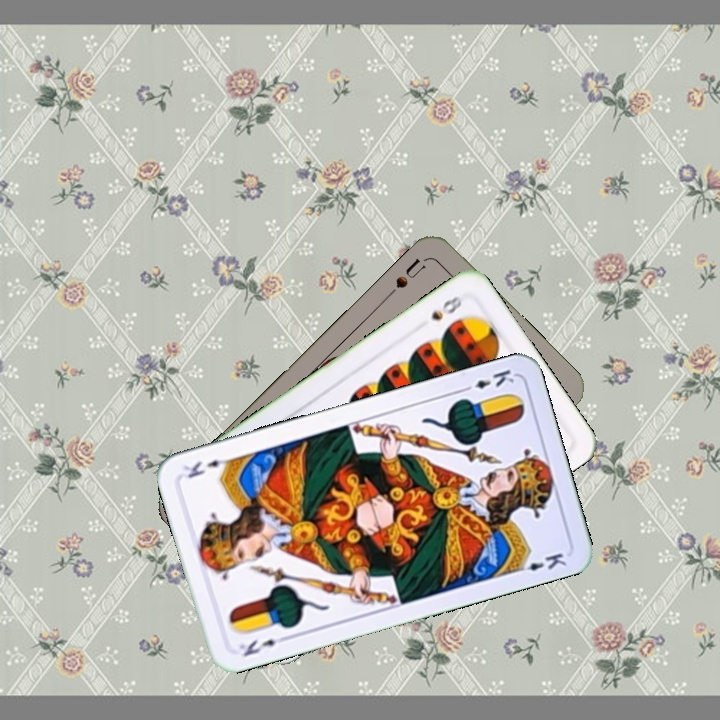EK: (458, 365, 517, 395), (235, 631, 290, 660)
S8: (427, 289, 467, 323)
SU: (384, 254, 430, 300)
